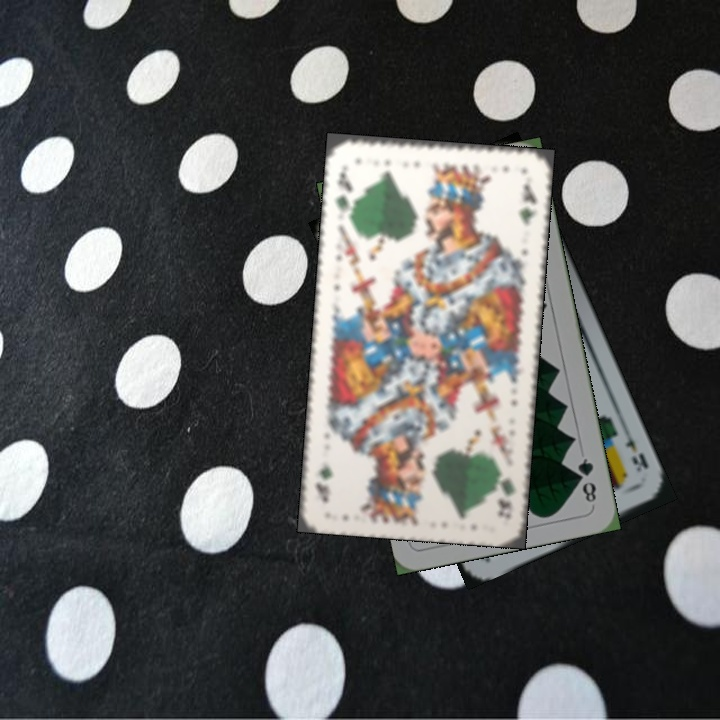EK: (620, 427, 651, 475)
G8: (573, 454, 599, 505)
GK: (331, 160, 357, 218), (493, 461, 518, 521)
